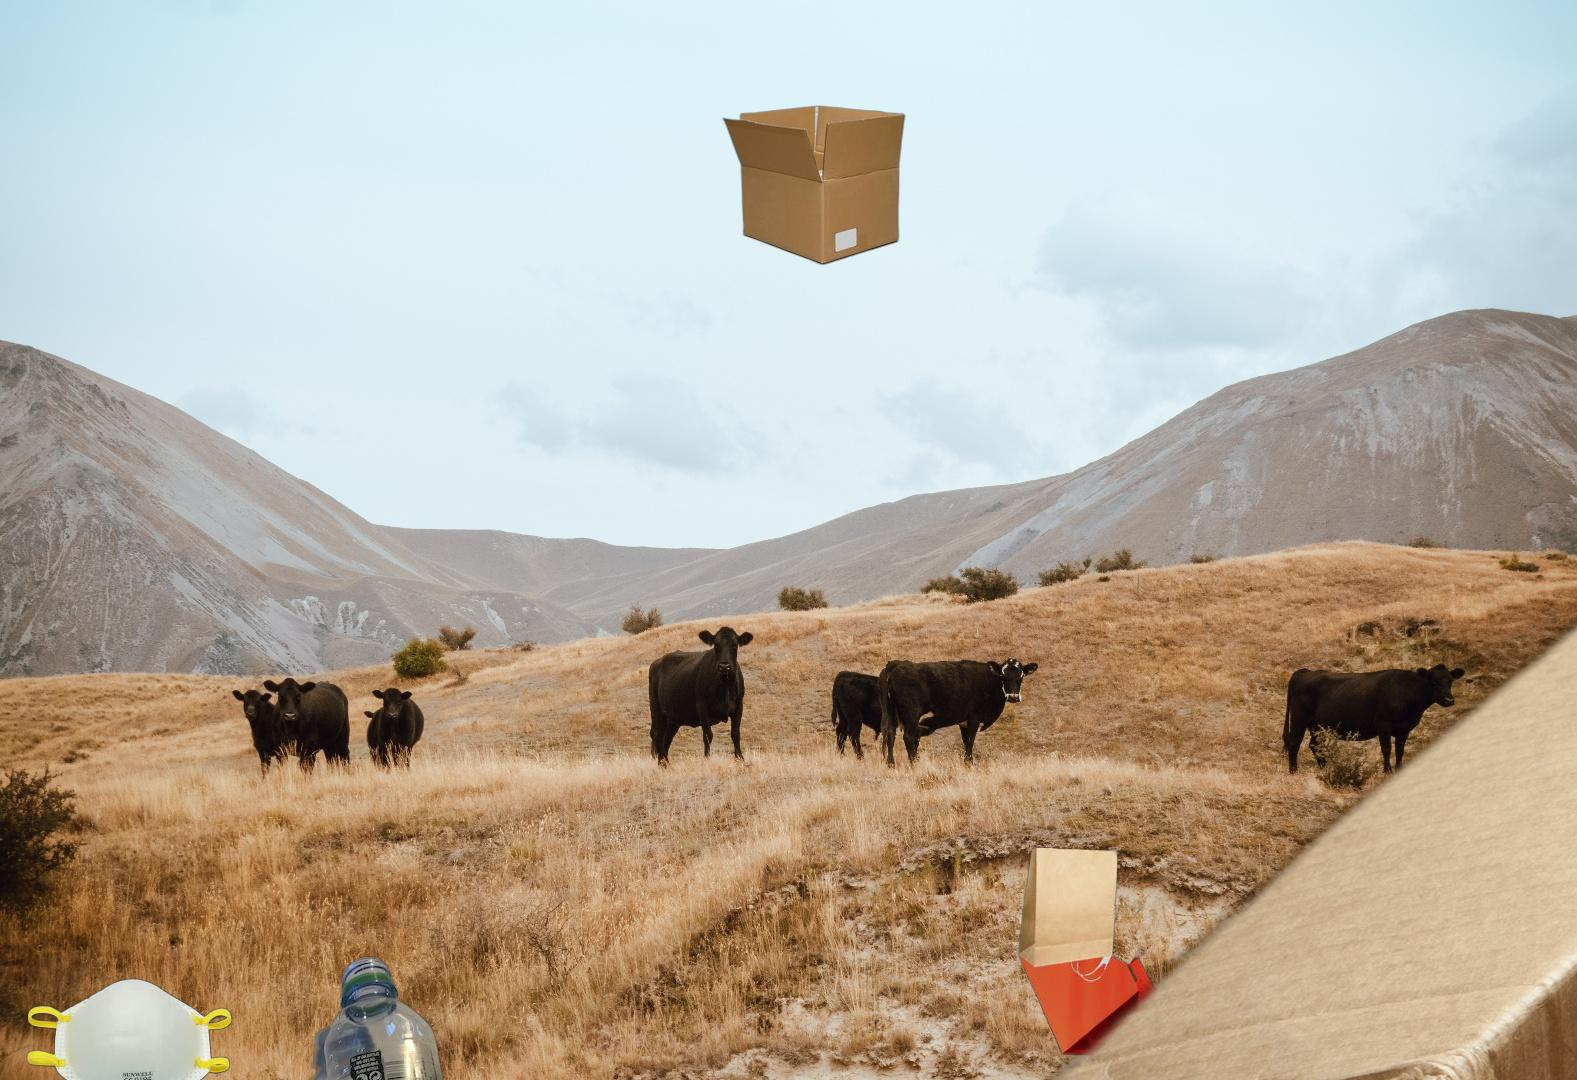paper-bag: (1014, 846, 1176, 1058)
plastic-bottles: (288, 952, 495, 1080)
trash: (24, 976, 235, 1080)
trashbox-cardboard: (910, 248, 1577, 1080), (720, 105, 908, 269)
